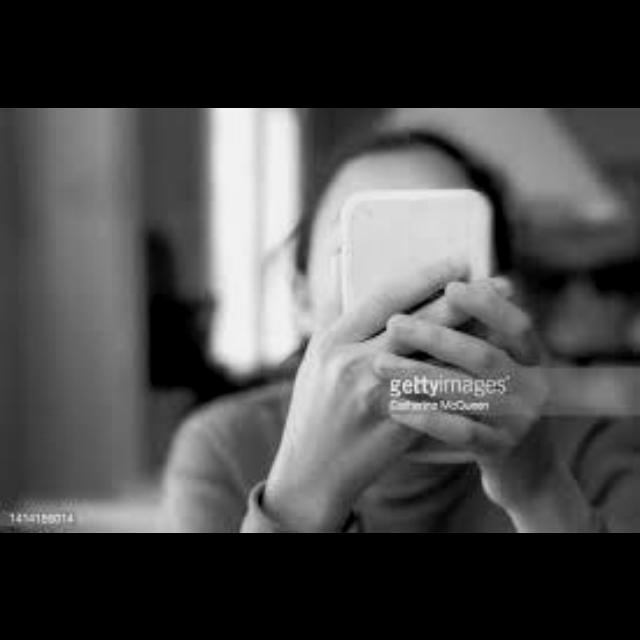fake: (299, 157, 557, 481)
